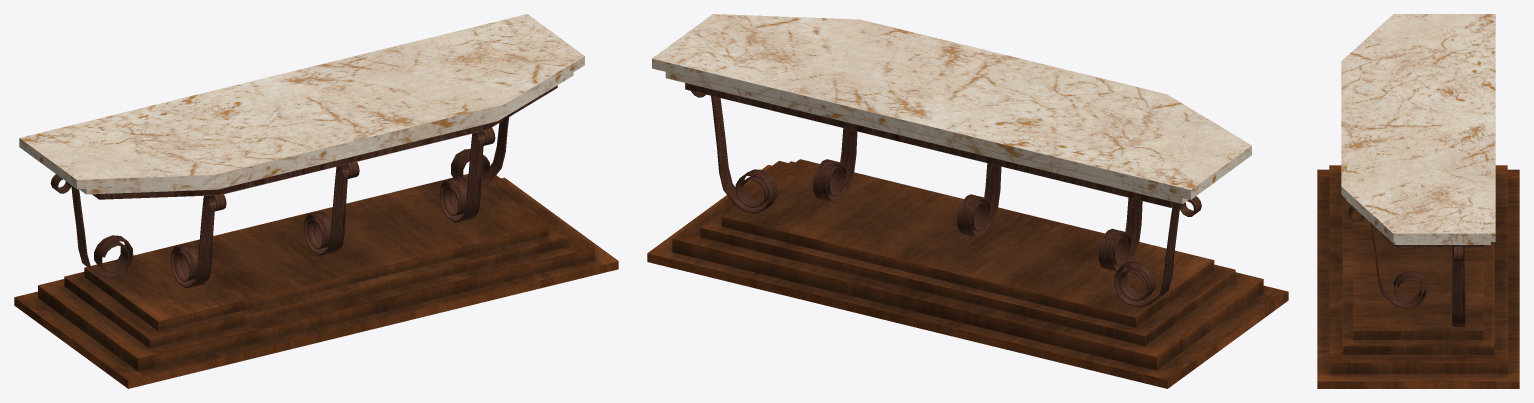
The model's file is TableReception03.fbx.
3 renders of one model, left to right at view 1: azimuth 30°, elevation 25°; view 2: azimuth 150°, elevation 25°; view 3: azimuth 270°, elevation 25°, orthographic. The views are drawn at different scales.
Visible parts, largest first — view 1: Circle; view 2: Circle; view 3: Circle.
Boxes of the visible parts, left/top/right/bottom form: Circle: left=14, top=14, right=618, bottom=388; Circle: left=647, top=14, right=1288, bottom=388; Circle: left=1317, top=14, right=1519, bottom=388.
Bounding box in the file's own units: 0.7809 × 0.2637 × 0.3038.
